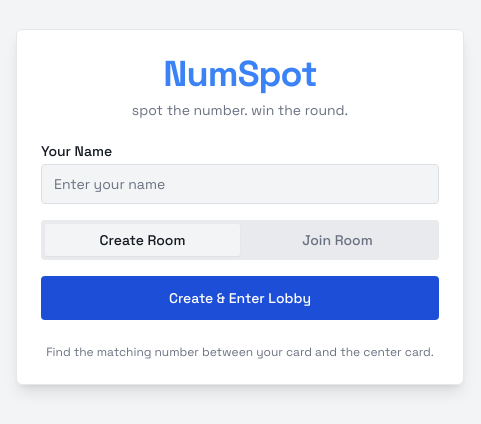
Scenario: Home page › name validation › shows error when name is too short
Type "a" into the field labelled "Your Name". click: (240,184)
box: [41, 164, 439, 204]
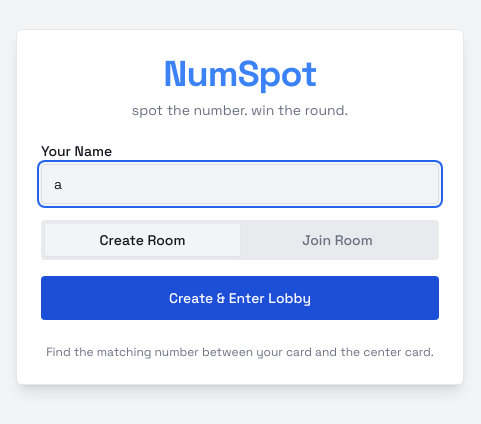
Click the button "Create & Enter Lobby". click: (240,298)
box: [41, 276, 439, 320]
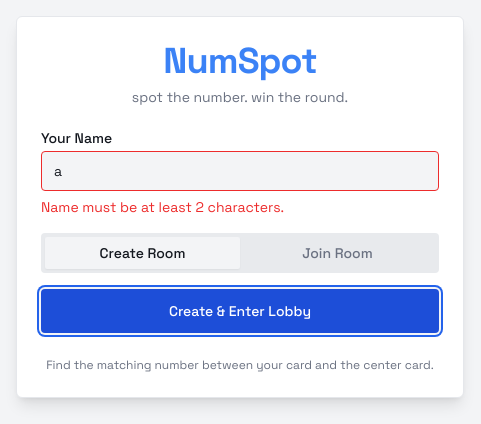
Now the text "Name must be at least 2 characters." is shown, box [41, 198, 284, 216]
